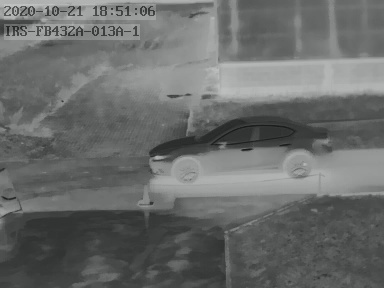vehicle: (148, 119, 331, 181)
